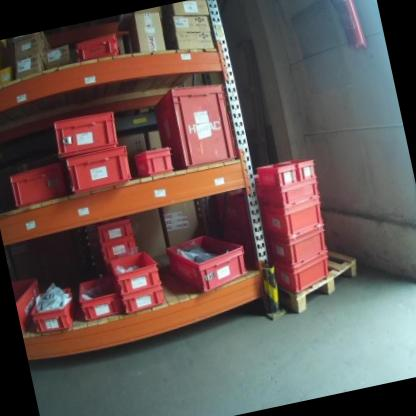pallet: (267, 233, 367, 318)
small_load_carrier: (149, 76, 240, 175), (165, 226, 250, 297), (48, 106, 122, 161), (61, 141, 136, 195), (6, 154, 74, 213), (210, 176, 266, 247), (257, 189, 329, 241), (265, 219, 334, 269), (105, 243, 165, 296), (25, 284, 83, 337), (253, 172, 323, 213), (272, 250, 335, 295), (73, 270, 124, 325), (11, 270, 50, 333), (71, 28, 124, 67), (131, 141, 177, 179), (256, 155, 302, 193), (119, 283, 169, 316), (93, 218, 137, 244), (98, 235, 139, 259), (292, 149, 318, 179)
